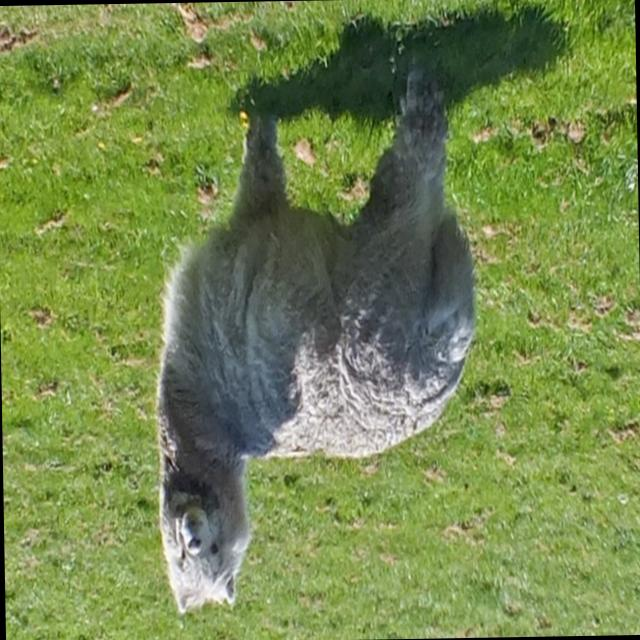alpaca: (150, 72, 480, 612)
